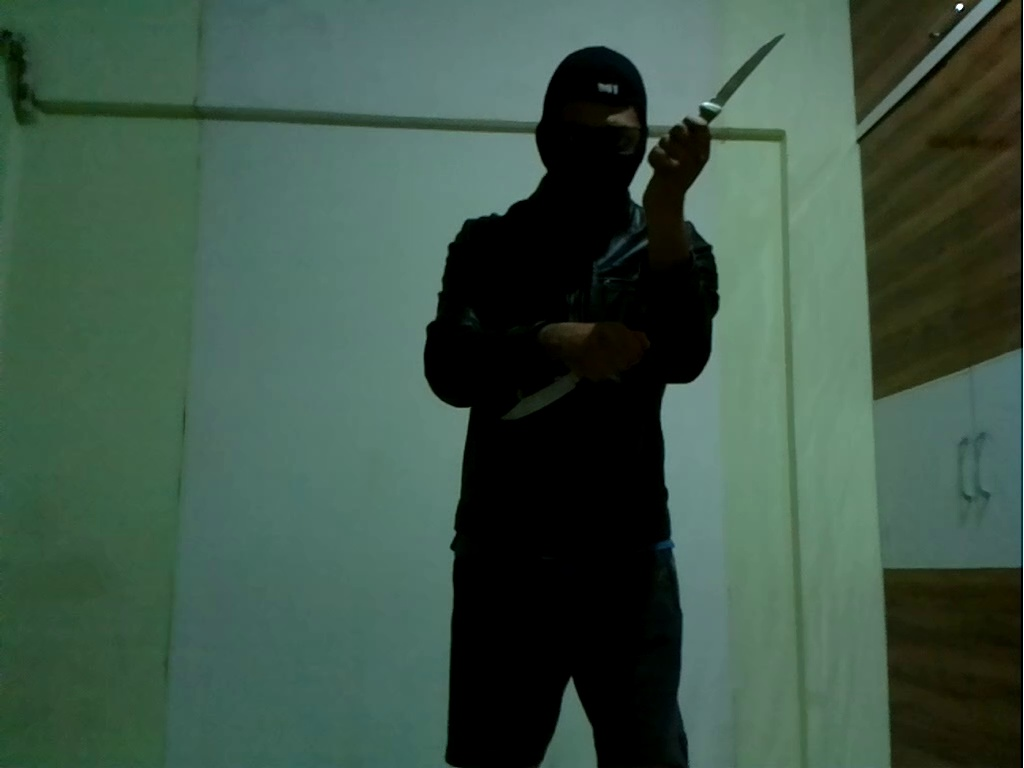knife: (677, 22, 792, 152), (496, 360, 590, 425)
